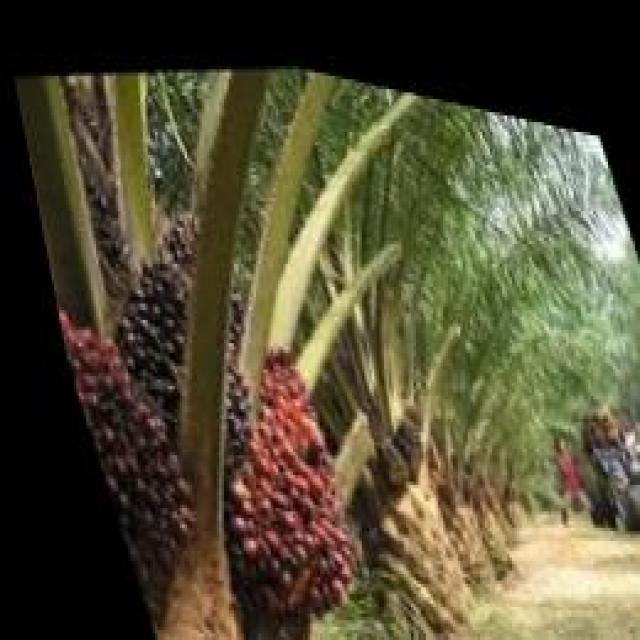Ripefruit: (164, 315, 368, 632), (43, 294, 206, 620)
